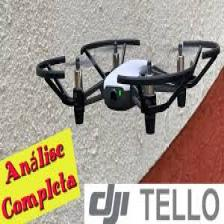drone: (37, 36, 220, 123)
